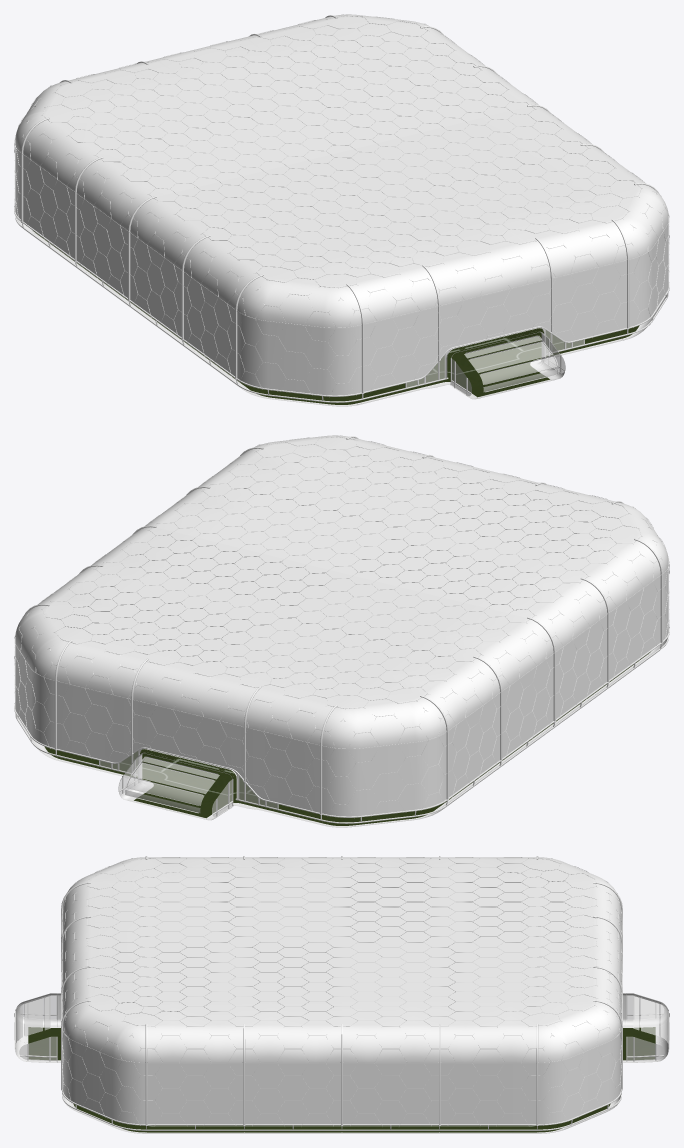
Rendered from driftwoods.glb.
The picture shows the model from 3 angles, top to bottom: view 1: azimuth 30°, elevation 25°; view 2: azimuth 150°, elevation 25°; view 3: azimuth 270°, elevation 25°; orthographic projection. The views are drawn at different scales.
Parts seen in each view (by area): view 1: Woods_Field_Walls, Woods_Field_Walls_Hexes, Woods_Field_Ground, Woods_Field_Goal_Net, Woods_Field_Ramps_Trim, Woods_Field_Wall_Posts, Woods_Field_Ramps, Woods_Field_Goal; view 2: Woods_Field_Walls, Woods_Field_Walls_Hexes, Woods_Field_Ground, Woods_Field_Goal_Net, Woods_Field_Ramps_Trim, Woods_Field_Wall_Posts, Woods_Field_Ramps, Woods_Field_Goal; view 3: Woods_Field_Walls, Woods_Field_Walls_Hexes, Woods_Field_Ground, Woods_Field_Goal_Net, Woods_Field_Ramps_Trim, Woods_Field_Wall_Posts, Woods_Field_Goal, Woods_Field_Ramps.
Part boxes in pixels (bbox=[...]): Woods_Field_Walls: bbox=[15, 14, 668, 395]; Woods_Field_Walls_Hexes: bbox=[14, 14, 669, 397]; Woods_Field_Ground: bbox=[33, 231, 639, 404]; Woods_Field_Goal_Net: bbox=[406, 330, 583, 396]; Woods_Field_Ramps_Trim: bbox=[14, 205, 669, 405]; Woods_Field_Wall_Posts: bbox=[14, 15, 669, 392]; Woods_Field_Ramps: bbox=[16, 217, 666, 406]; Woods_Field_Goal: bbox=[451, 334, 565, 399]; Woods_Field_Walls: bbox=[15, 435, 668, 816]; Woods_Field_Walls_Hexes: bbox=[14, 435, 669, 818]; Woods_Field_Ground: bbox=[44, 652, 650, 825]; Woods_Field_Goal_Net: bbox=[100, 751, 277, 817]; Woods_Field_Ramps_Trim: bbox=[14, 626, 669, 826]; Woods_Field_Wall_Posts: bbox=[14, 436, 669, 813]; Woods_Field_Ramps: bbox=[17, 638, 667, 827]; Woods_Field_Goal: bbox=[118, 755, 232, 820]; Woods_Field_Walls: bbox=[62, 857, 621, 1124]; Woods_Field_Walls_Hexes: bbox=[61, 857, 622, 1125]; Woods_Field_Ground: bbox=[28, 1027, 655, 1132]; Woods_Field_Goal_Net: bbox=[14, 995, 669, 1060]; Woods_Field_Ramps_Trim: bbox=[15, 971, 668, 1133]; Woods_Field_Wall_Posts: bbox=[61, 856, 622, 1124]; Woods_Field_Goal: bbox=[14, 993, 669, 1062]; Woods_Field_Ramps: bbox=[63, 1095, 620, 1133].
Size of the model in its own units: 82.59 by 20.83 by 120.
Materials: 9 (1 with a texture image).
